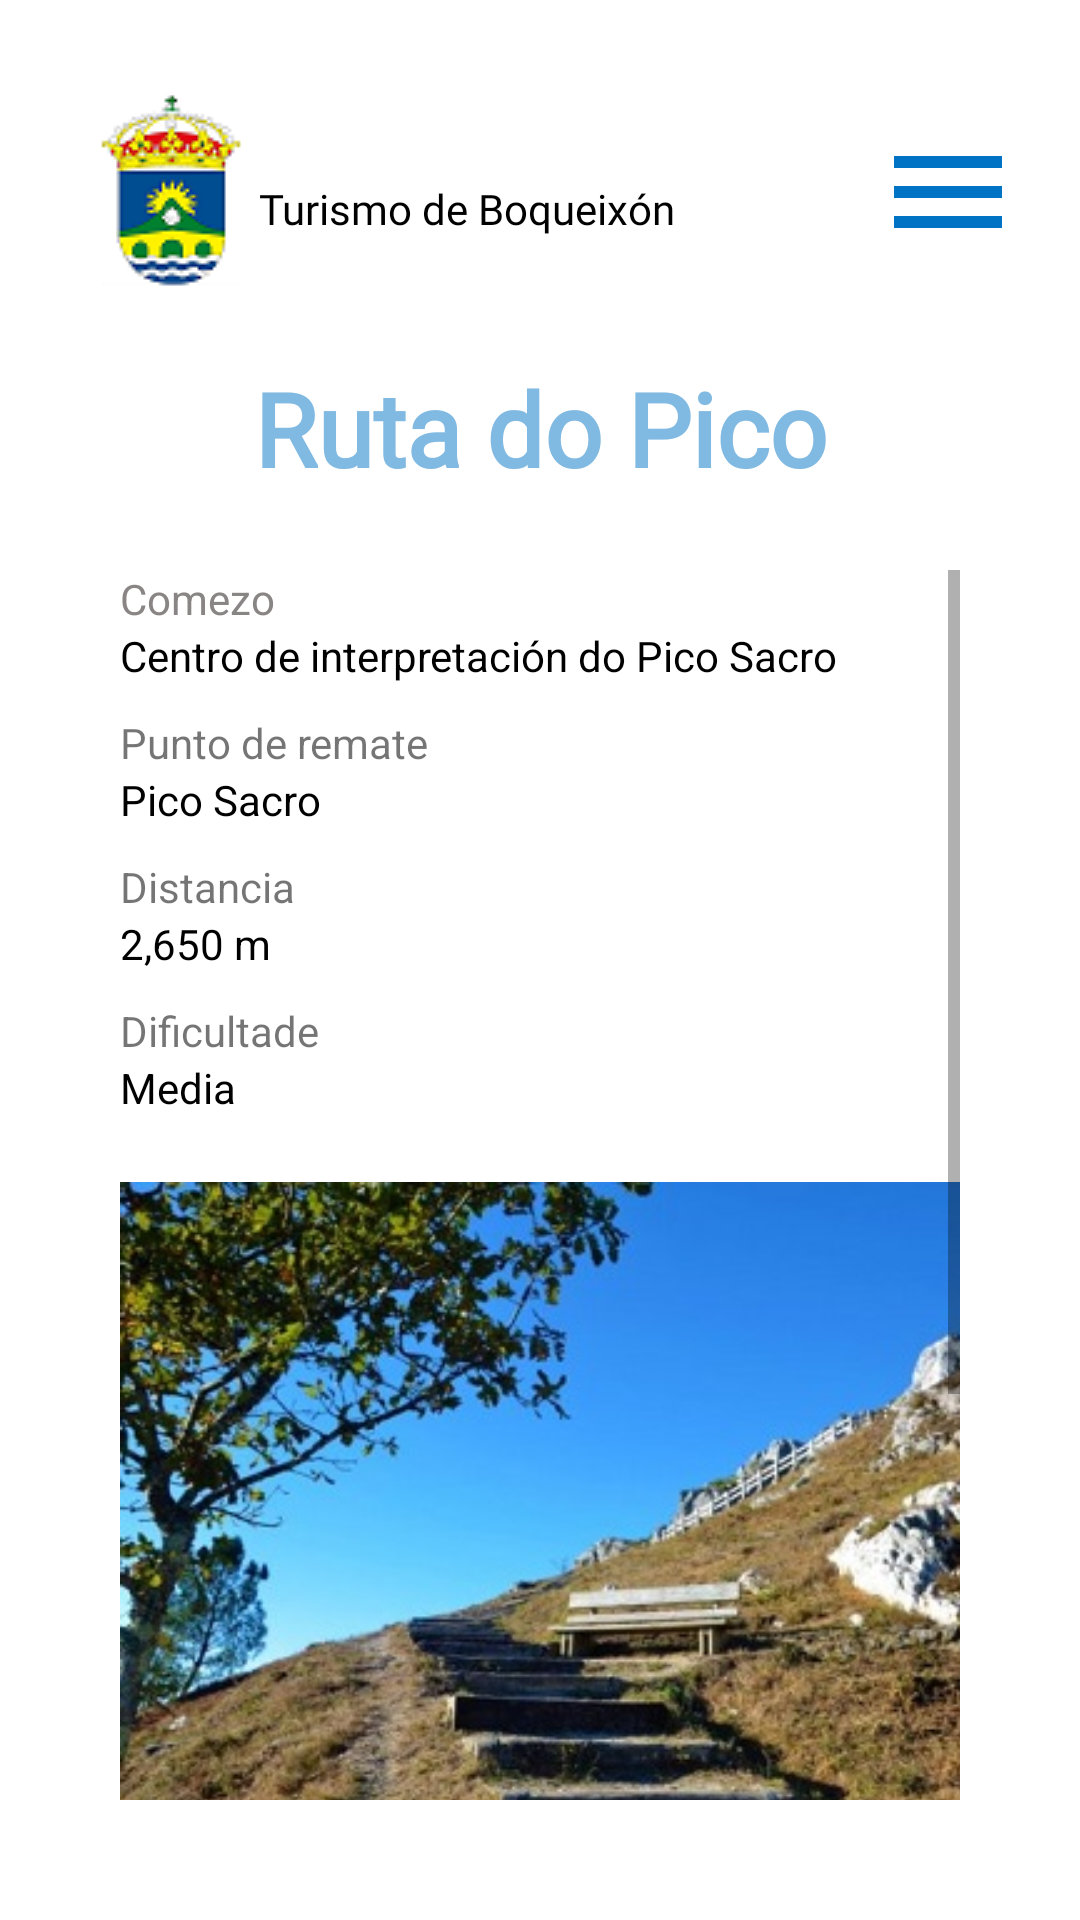

Named icons in this screenshot (1080px×1920px) and their centers, (x=x, y=y):
hamburguesa: (x=948, y=192)
